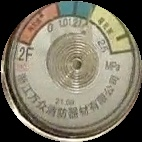green: (56, 2, 96, 21)
needle: (84, 4, 93, 36)
red: (18, 4, 59, 44)
yellow: (91, 6, 136, 53)
